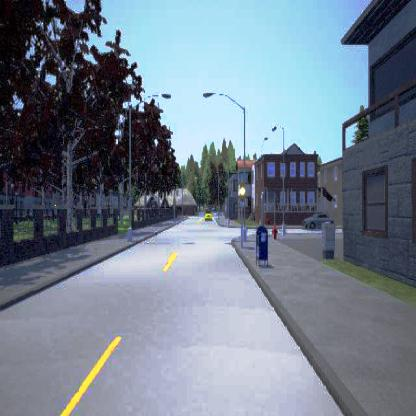vehicle: (302, 212, 334, 229), (203, 208, 211, 220)
